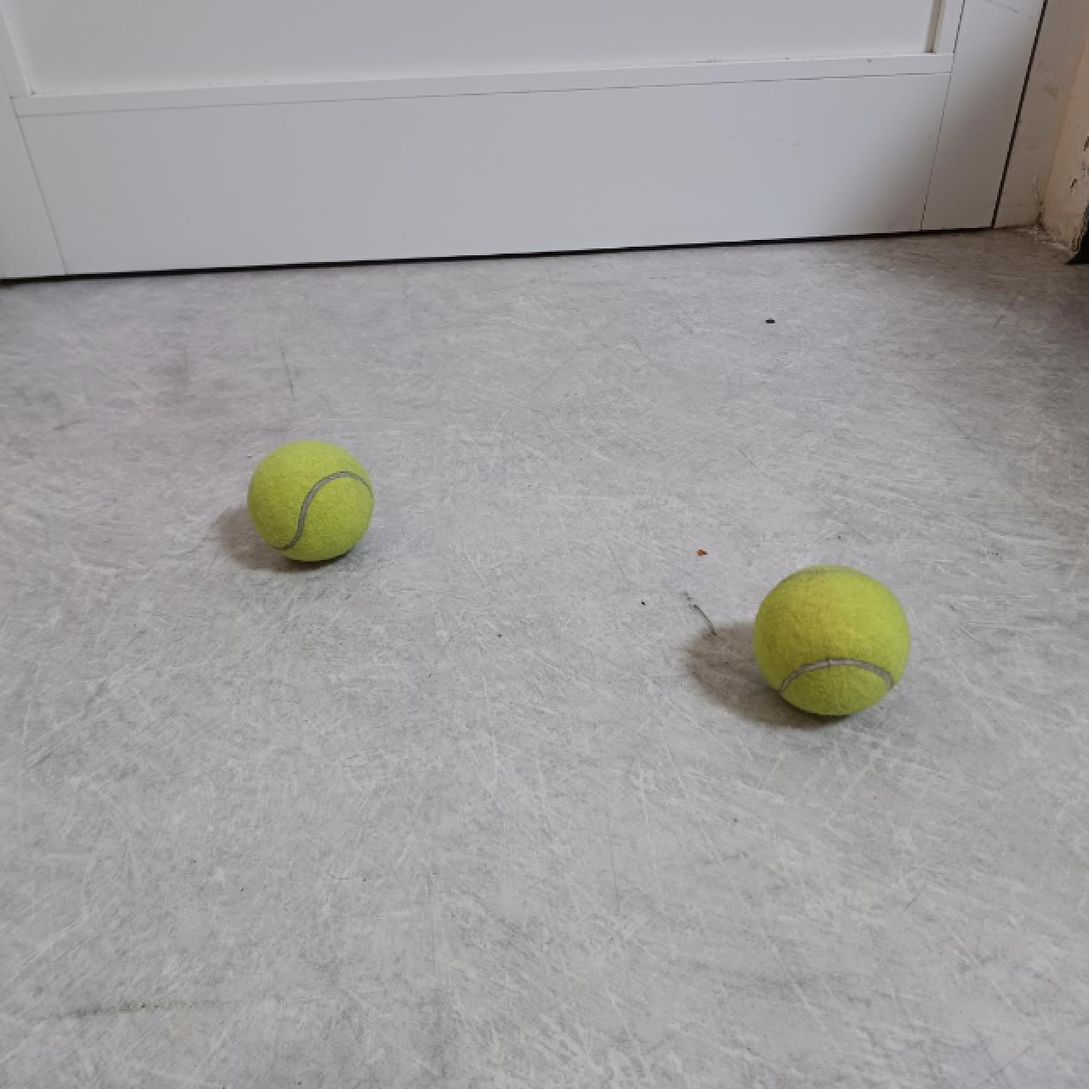tennis-ball: (753, 563, 911, 724), (244, 436, 374, 568)
